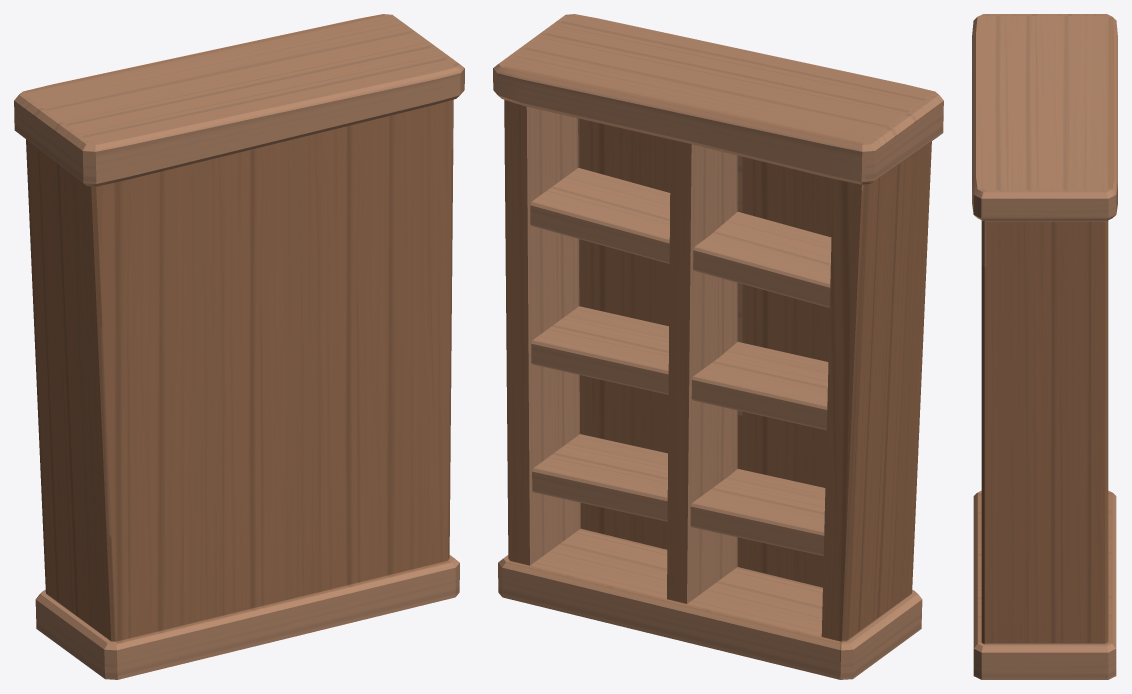
The model's file is Bookshelf.fbx.
The picture shows the model from 3 angles, left to right: view 1: azimuth 30°, elevation 25°; view 2: azimuth 150°, elevation 25°; view 3: azimuth 270°, elevation 25°; orthographic projection. The views are drawn at different scales.
Parts seen in each view (by area): view 1: Bookshelf; view 2: Bookshelf; view 3: Bookshelf.
Boxes of the visible parts, bbox=[...] form: Bookshelf: bbox=[14, 14, 464, 679]; Bookshelf: bbox=[493, 14, 943, 679]; Bookshelf: bbox=[972, 14, 1117, 679].
Size of the model in its own units: 150 by 204 by 53.77.
1 material, 1 textured.
